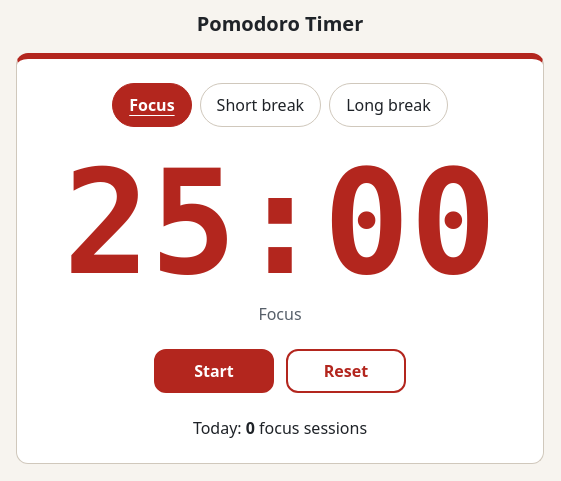
Scenario: S1 Start, pause and reset › Reset stops the timer and shows the full duration of the current mode
The image size is (561, 481).
Click the button "Short break" at [260, 105], box [200, 83, 321, 127]
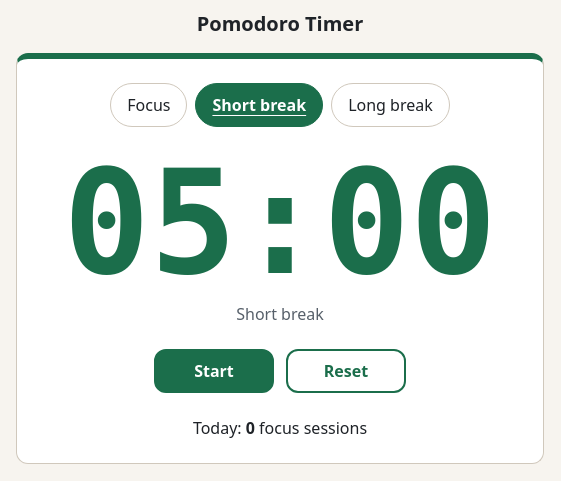
Click the button "Start" at [214, 371], box [154, 349, 274, 393]
Wait 61000 ms
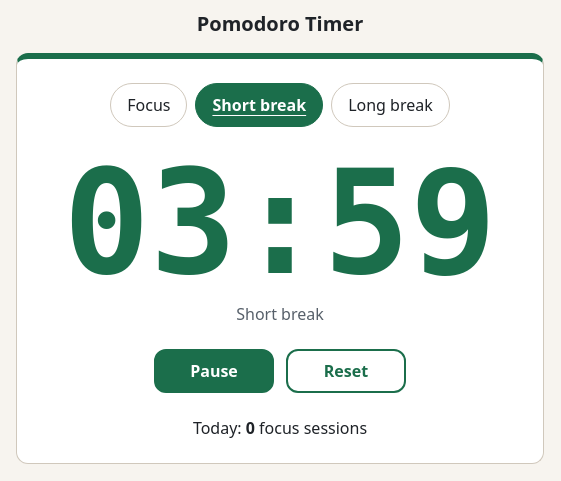
Click the button "Reset" at [346, 371], box [286, 349, 406, 393]
Wait 5000 ms
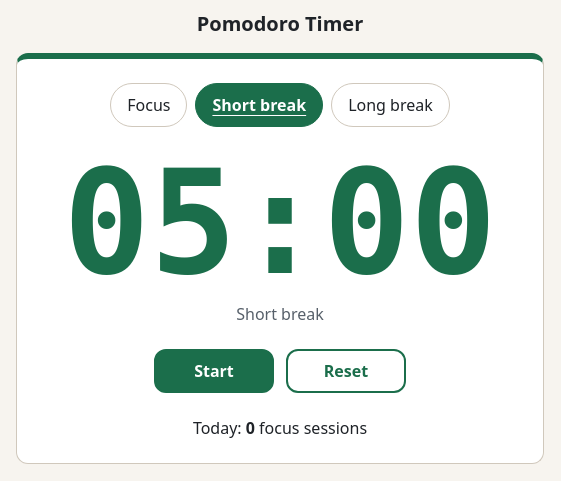
Result: the button "Start" is shown at [154, 349, 274, 393]
